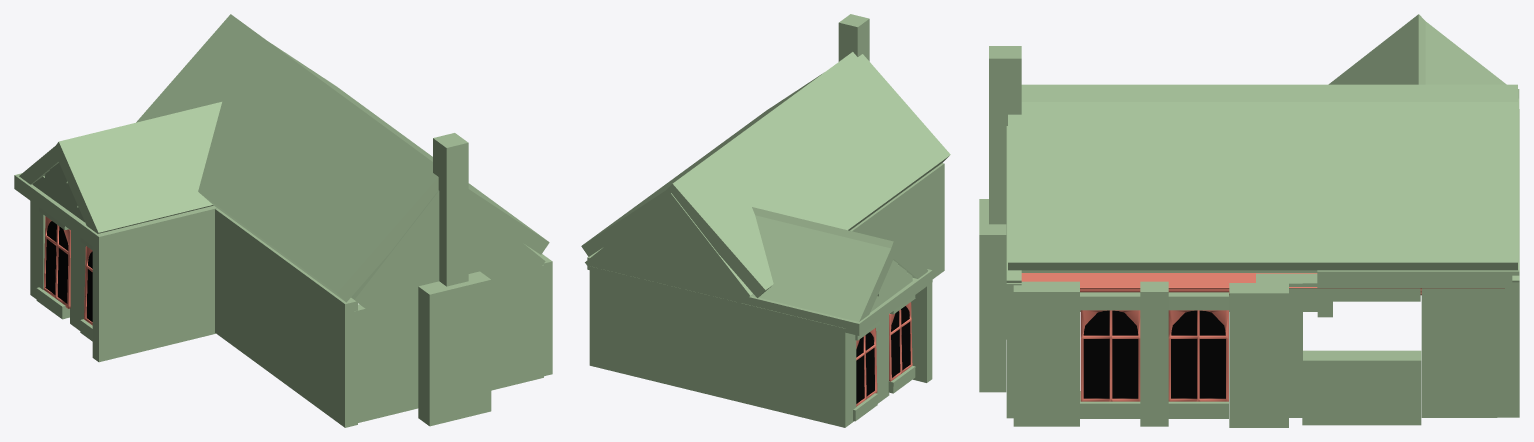
The model's file is house outside.fbx.
3 views of the same model, side by side, from view 1: azimuth 30°, elevation 25°; view 2: azimuth 150°, elevation 25°; view 3: azimuth 270°, elevation 25° (orthographic). The views are drawn at different scales.
Parts seen in each view (by area): view 1: Wall__17__1, Wall__13_, Wall__19_, Wall__5_, Wall__14_, Wall__15_, Wall__16__1, Cube__4__1, Wall__7_, Wall__16_, large_window__2_, Wall__6_ (+7 smaller); view 2: Wall__17__1, Wall__4_, Wall__18__1, Wall__20_, Wall__13_, Wall__7_, Wall__16_, Wall__5_, Wall__19_, large_window__3_, large_window__2_, Cube__4__1 (+6 smaller); view 3: Wall__16_, Wall__12_, Wall__17_, Wall__9_, Wall__17__1, Wall__16__2, large_window__1_, large_window, Wall__15_, Cube__4__1, Wall__18_, side (+12 smaller).
Part boxes in pixels (box(x1,y1,x2,y2)): Wall__17__1: box(136, 14, 438, 302); Wall__13_: box(215, 208, 357, 427); Wall__19_: box(56, 102, 221, 233); Wall__5_: box(92, 222, 215, 362); Wall__14_: box(354, 265, 543, 423); Wall__15_: box(418, 271, 491, 426); Wall__16__1: box(351, 190, 545, 350); Cube__4__1: box(433, 133, 468, 286); Wall__7_: box(14, 173, 217, 250); Wall__16_: box(271, 43, 549, 254); large_window__2_: box(43, 216, 70, 308); Wall__6_: box(70, 230, 85, 330); Wall__17__1: box(664, 52, 950, 297); Wall__4_: box(589, 266, 852, 427); Wall__18__1: box(749, 215, 895, 321); Wall__20_: box(585, 193, 752, 302); Wall__13_: box(850, 163, 944, 278); Wall__7_: box(587, 248, 932, 335); Wall__16_: box(581, 73, 822, 256); Wall__5_: box(911, 283, 932, 382); Wall__19_: box(752, 207, 927, 278); large_window__3_: box(889, 302, 912, 381); large_window__2_: box(856, 328, 877, 406); Cube__4__1: box(838, 14, 869, 61); Wall__16_: box(1008, 102, 1517, 270); Wall__12_: box(1421, 288, 1497, 417); Wall__17_: box(1013, 281, 1079, 426); Wall__9_: box(1302, 350, 1421, 425); Wall__17__1: box(1021, 84, 1517, 101); Wall__16__2: box(1229, 283, 1288, 427); large_window__1_: box(1168, 310, 1228, 401); large_window: box(1080, 310, 1140, 401); Wall__15_: box(979, 199, 1006, 392); Cube__4__1: box(989, 46, 1021, 339); Wall__18_: box(1140, 281, 1168, 426); side: box(1021, 273, 1504, 295).
Size of the model in its own units: 5168 by 6162 by 4059.
